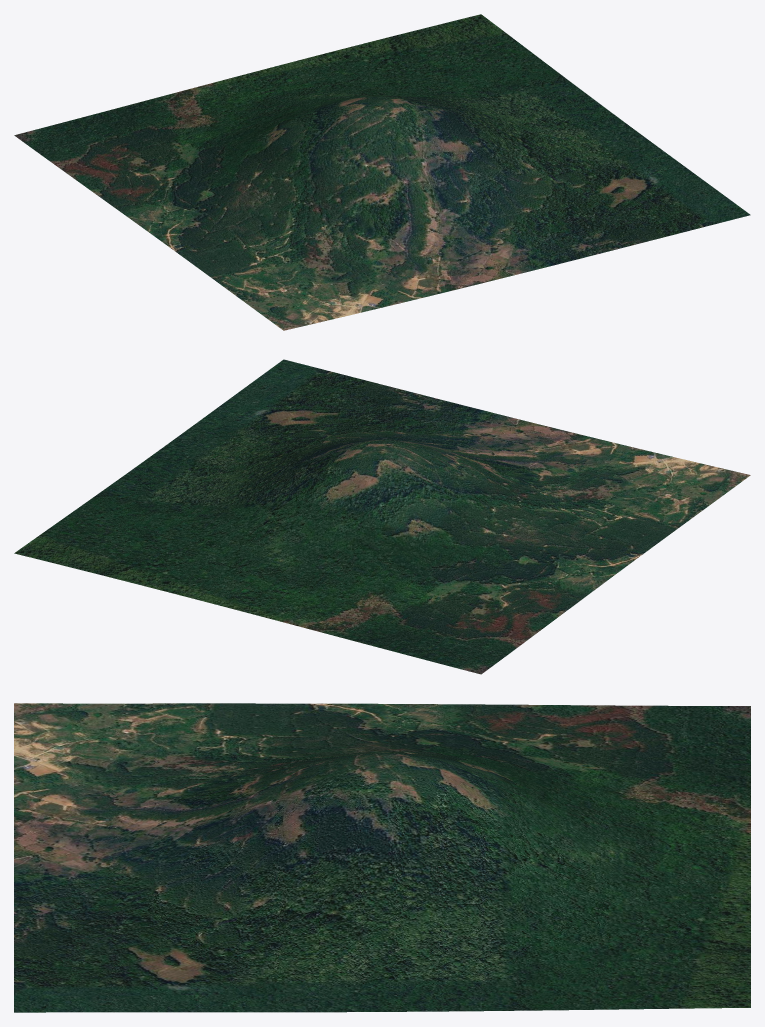
File: terrain_real_T_W03_S04.glb
The picture shows the model from 3 angles, top to bottom: view 1: azimuth 30°, elevation 25°; view 2: azimuth 150°, elevation 25°; view 3: azimuth 270°, elevation 25°; orthographic projection. The views are drawn at different scales.
Visible parts, largest first — view 1: Terrain_Real_DEM_T_W03_S04; view 2: Terrain_Real_DEM_T_W03_S04; view 3: Terrain_Real_DEM_T_W03_S04.
Part boxes in pixels (box(x1,y1,x2,y2)): Terrain_Real_DEM_T_W03_S04: box(14, 14, 750, 330); Terrain_Real_DEM_T_W03_S04: box(14, 359, 750, 674); Terrain_Real_DEM_T_W03_S04: box(14, 703, 750, 1012).
Bounding box in the file's own units: 2000 × 282 × 2000.
Materials: 1 (1 with a texture image).
